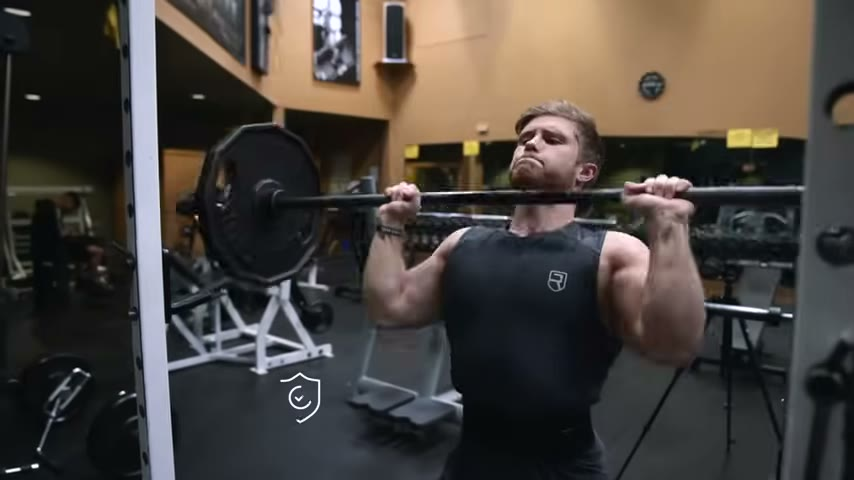barbell_plate_side: (177, 115, 318, 305)
